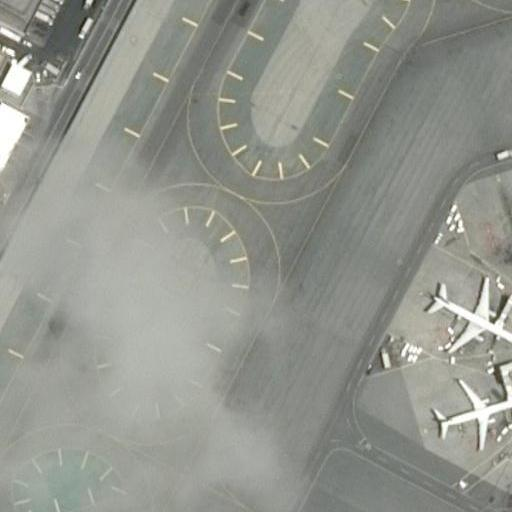Aircraft: (418, 273, 512, 355), (423, 377, 512, 450)
